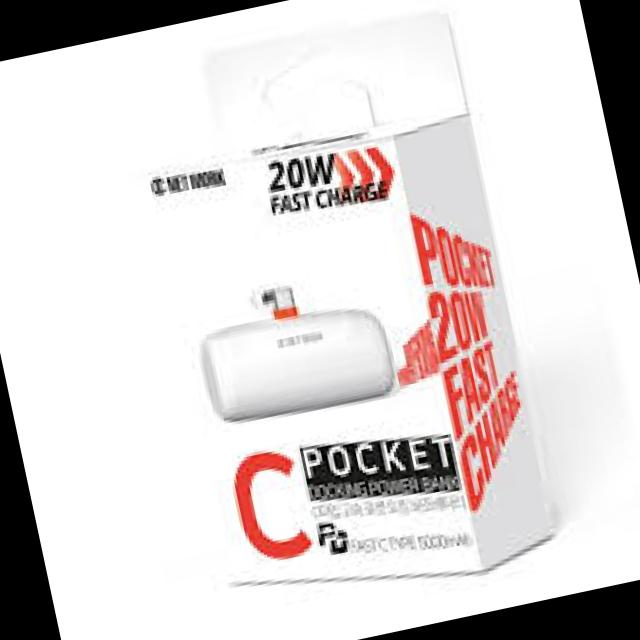power_bank: (187, 258, 401, 438)
